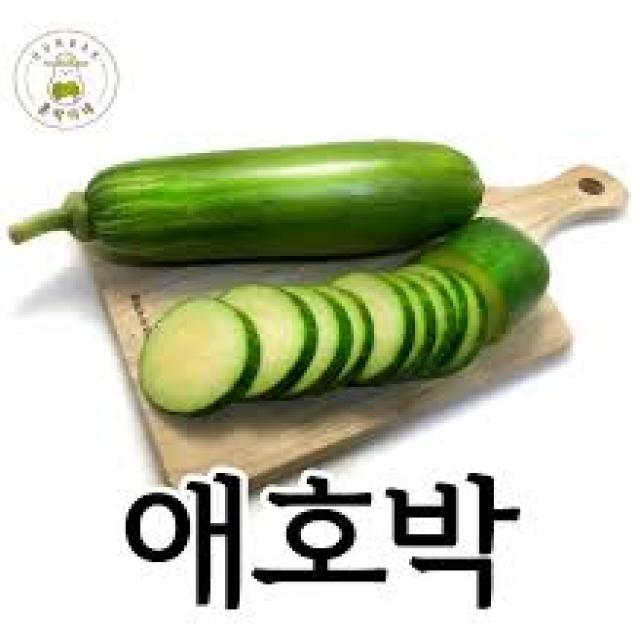zucchini: (3, 139, 485, 264)
